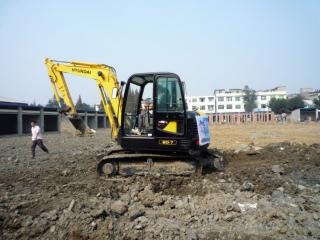excavator: (43, 53, 225, 182)
